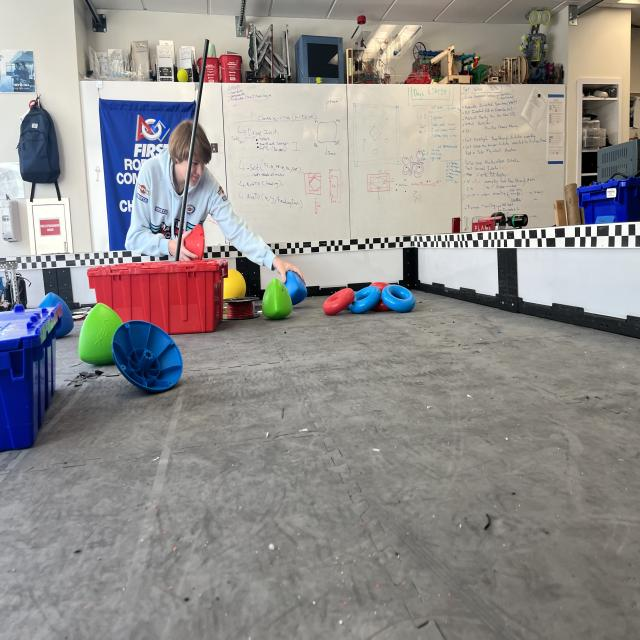Blue-Ring: (381, 285, 415, 312), (349, 287, 381, 313)
Red-Ring: (324, 288, 355, 315)
